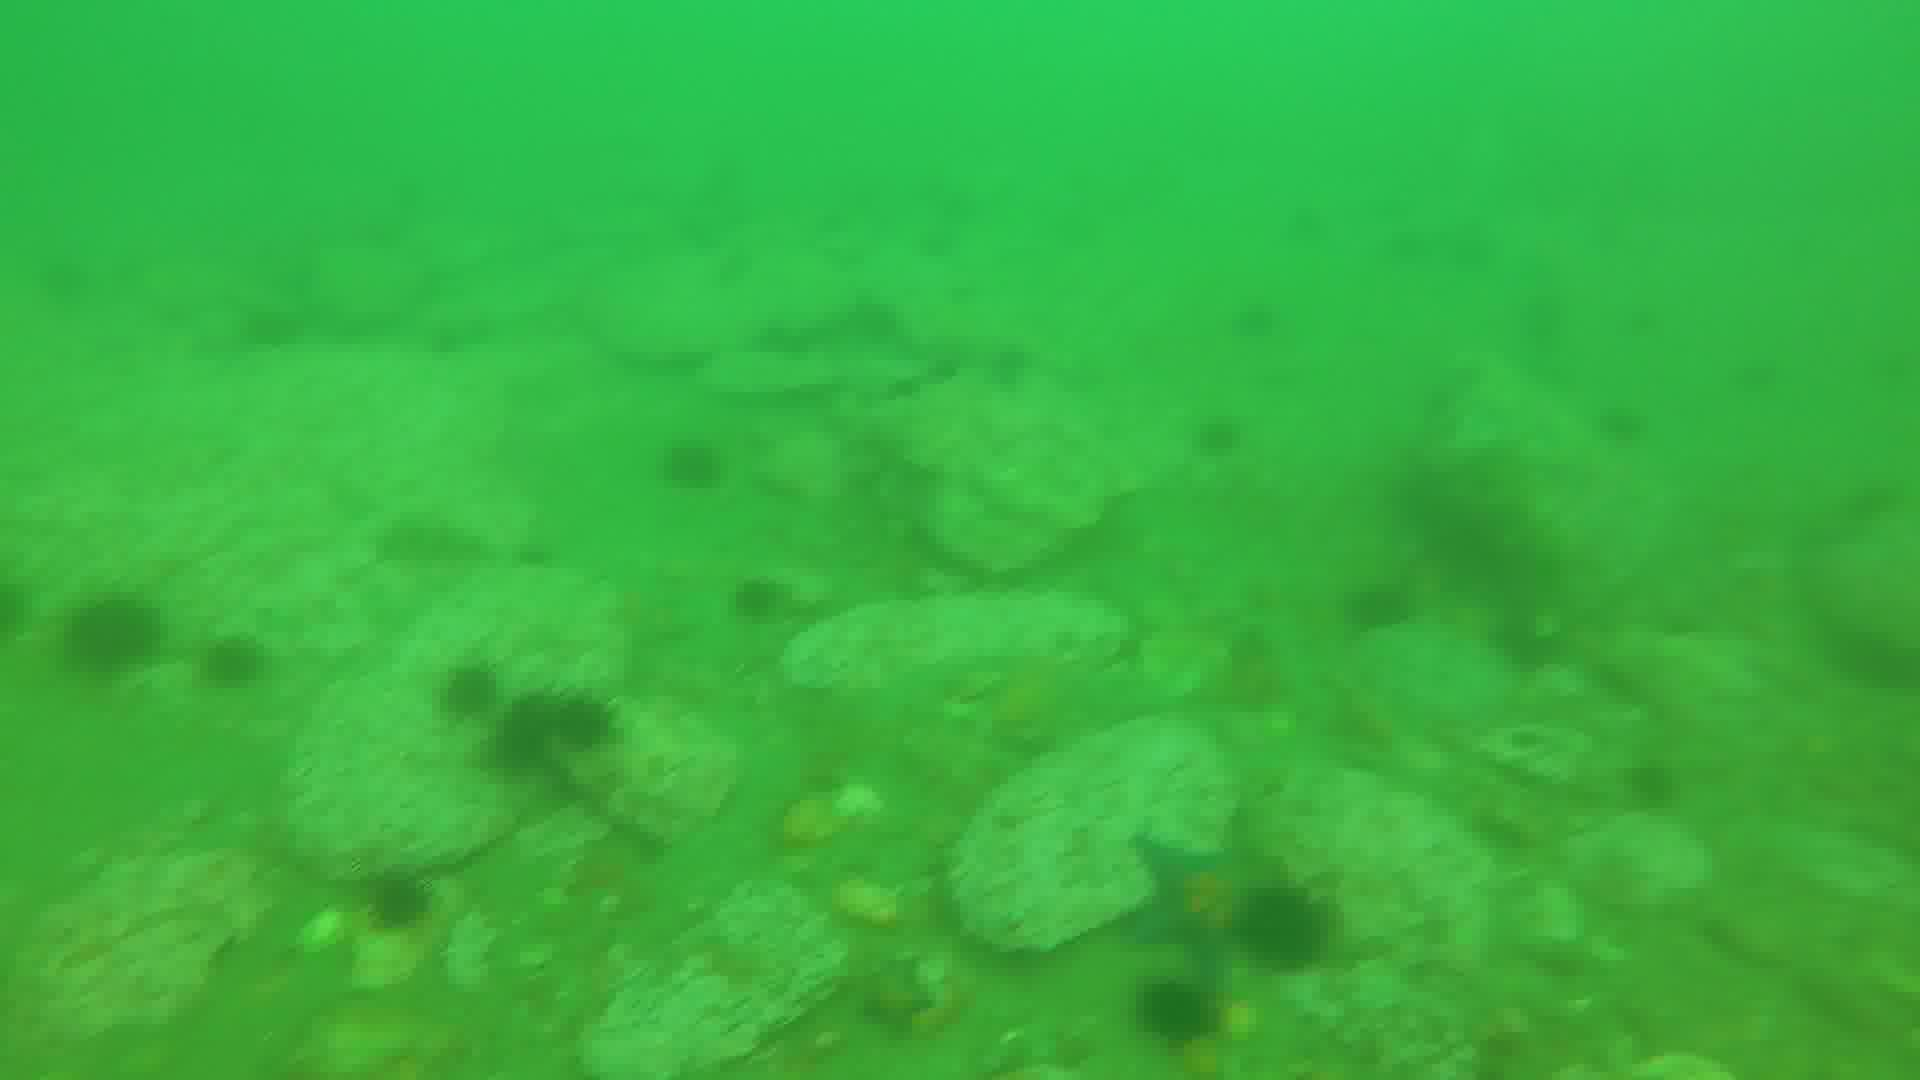echinus: (62, 593, 164, 684), (1242, 886, 1335, 972), (492, 694, 571, 779), (1145, 988, 1222, 1050), (196, 640, 265, 696), (553, 694, 618, 752), (368, 874, 431, 932), (1626, 756, 1685, 815), (1349, 582, 1415, 628), (669, 444, 729, 495), (442, 666, 502, 716), (1195, 407, 1250, 462), (735, 578, 793, 628)
starfish: (1129, 835, 1280, 1002), (851, 965, 942, 1040)
